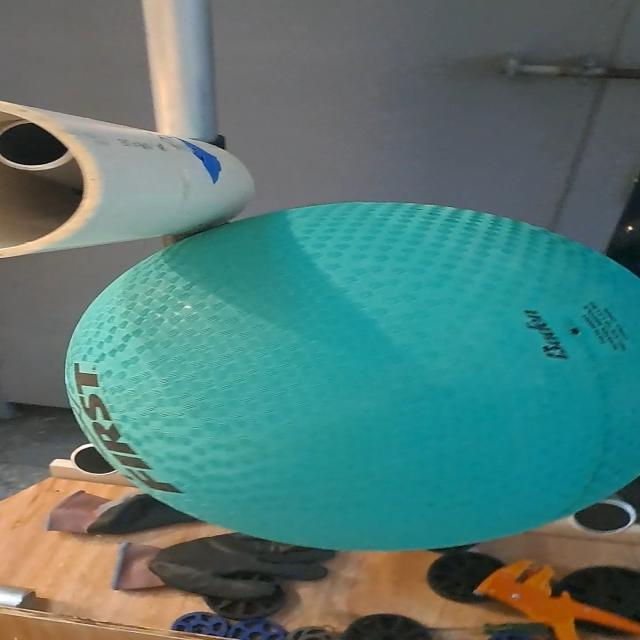ALGAE: (59, 198, 640, 553)
CORAL: (2, 100, 261, 255)
